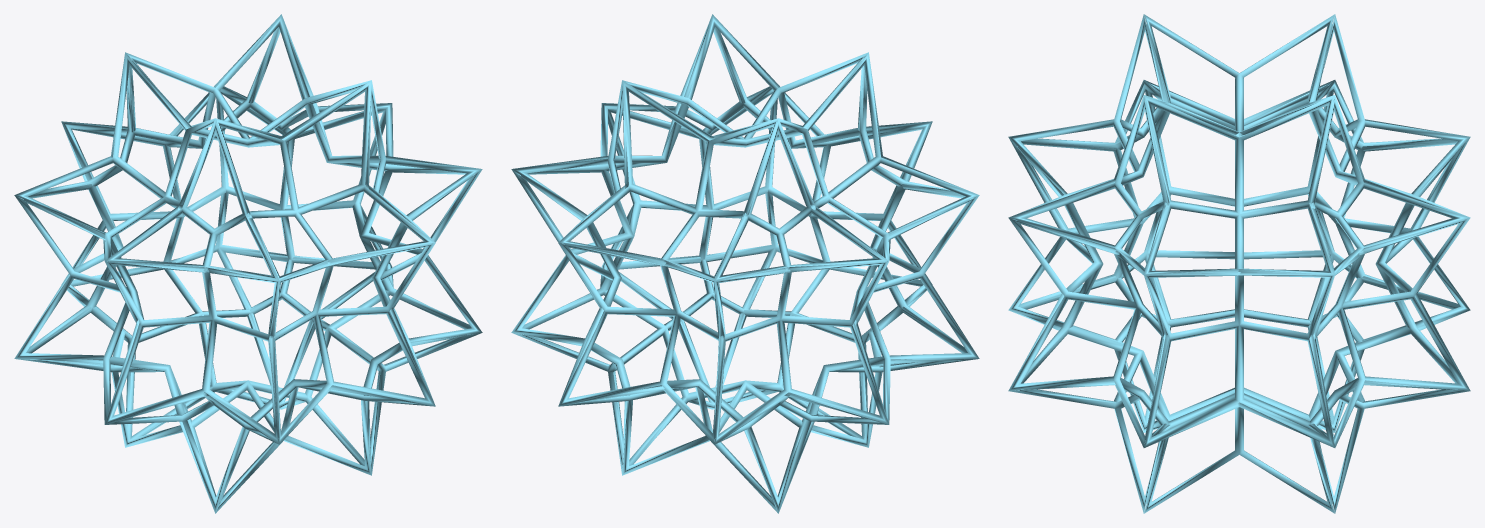
Rendered from RhombicuboctahedronK2.glb.
3 renders of one model, left to right at view 1: azimuth 30°, elevation 25°; view 2: azimuth 150°, elevation 25°; view 3: azimuth 270°, elevation 25°, orthographic. The views are drawn at different scales.
Parts seen in each view (by area): view 1: Rhombicuboctahedron; view 2: Rhombicuboctahedron; view 3: Rhombicuboctahedron.
Part boxes in pixels (x1,y1,x2,y2): Rhombicuboctahedron: (14,14,482,513); Rhombicuboctahedron: (511,14,979,513); Rhombicuboctahedron: (1008,14,1470,513).
Size of the model in its own units: 2.46 by 2.46 by 2.46.
